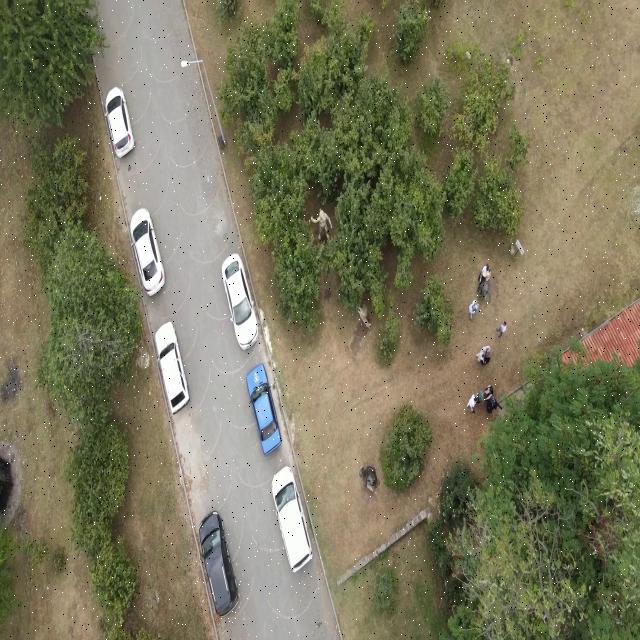people: (469, 300, 479, 321), (466, 394, 476, 415), (479, 264, 488, 287), (495, 322, 507, 338), (477, 345, 487, 361), (485, 386, 494, 402), (476, 392, 485, 406), (488, 398, 496, 413), (485, 348, 491, 364)
